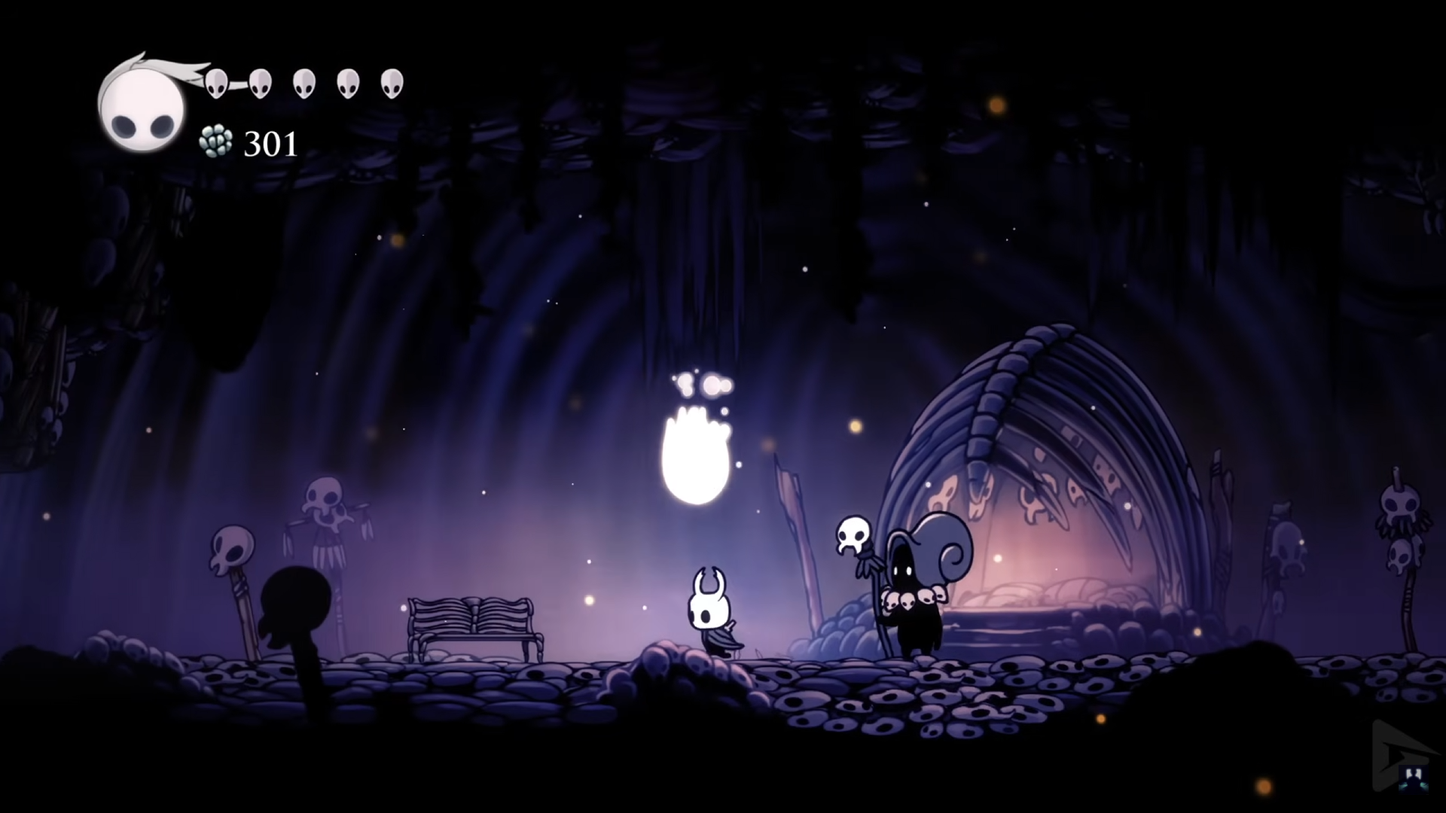HK: (677, 566, 743, 662)
